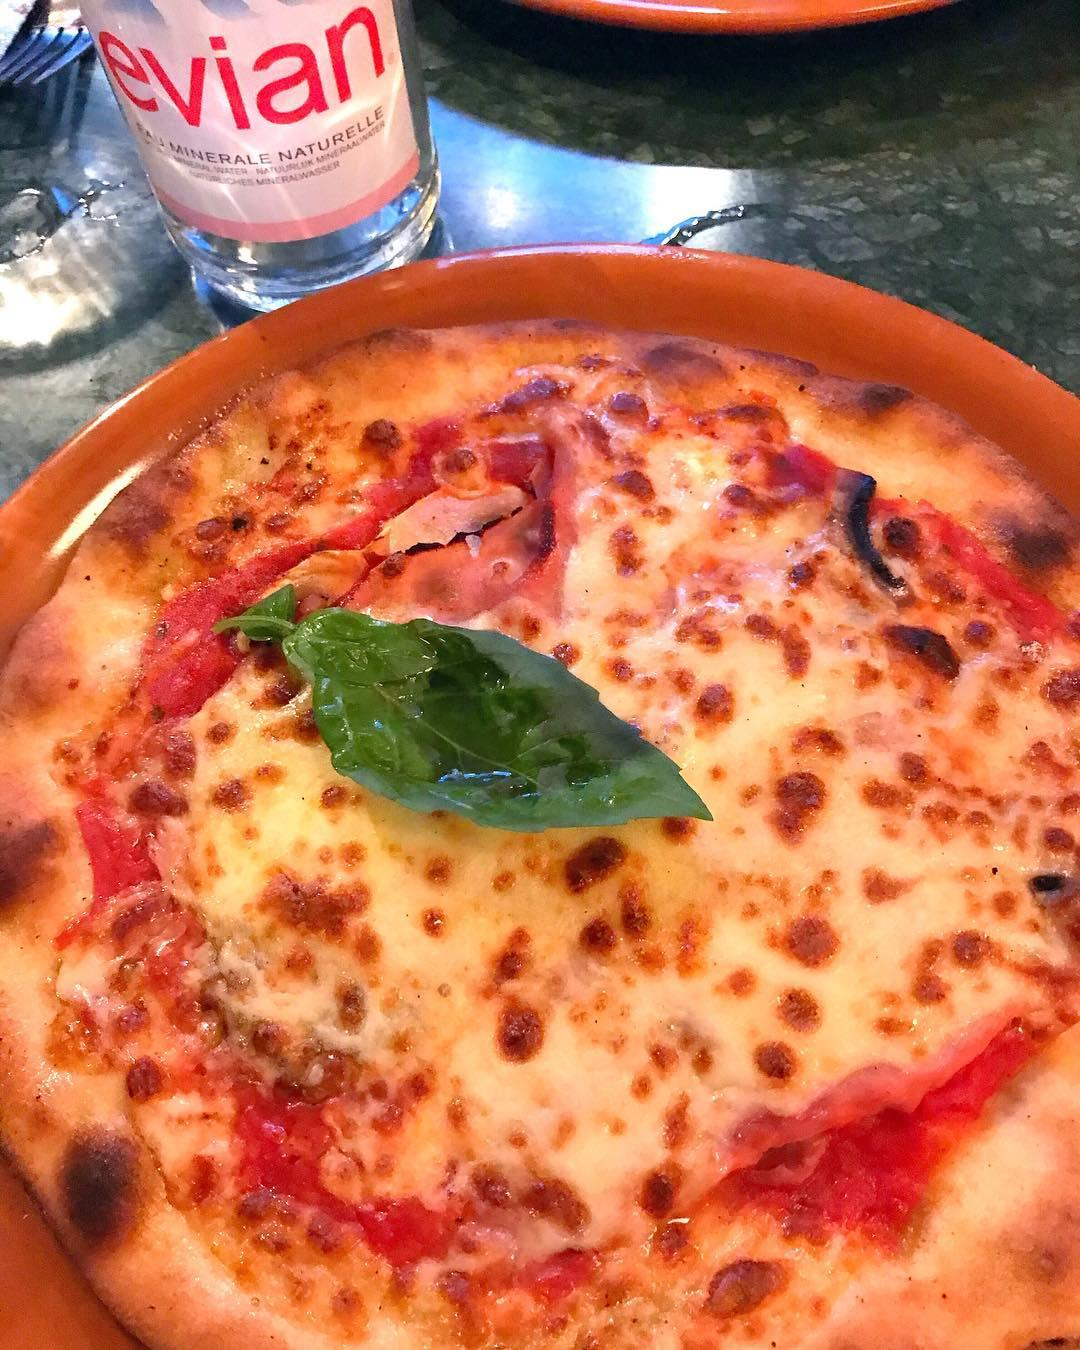Basil: (214, 571, 715, 840)
Cheese: (334, 851, 971, 1162), (607, 477, 947, 812)
Mushroom: (349, 467, 561, 553), (821, 471, 909, 603)
Pizza: (1, 307, 1080, 1350)
